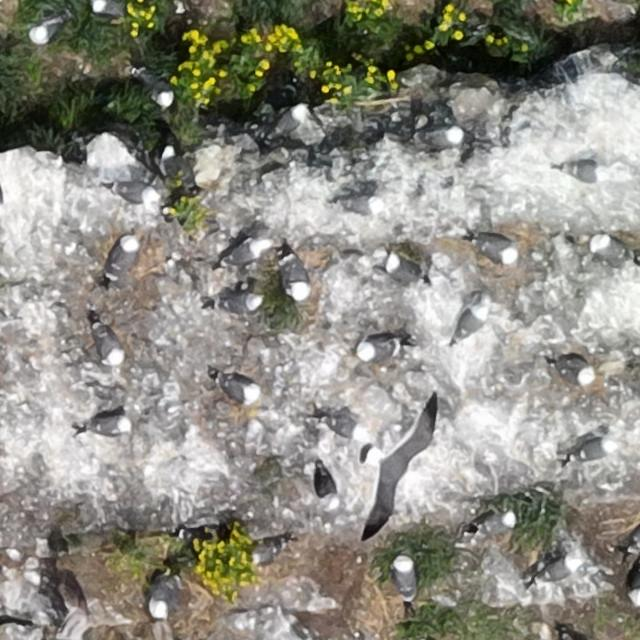F: (361, 407, 436, 538)
umineko: (91, 320, 130, 366), (278, 254, 314, 302), (588, 229, 636, 265), (224, 237, 274, 266), (386, 254, 428, 287), (216, 289, 266, 315), (138, 72, 173, 105), (110, 237, 140, 272), (339, 196, 390, 216), (322, 414, 364, 436), (222, 377, 257, 402), (459, 306, 487, 337), (559, 358, 593, 383), (152, 580, 176, 615), (110, 183, 154, 202), (476, 239, 512, 261), (396, 559, 416, 597), (32, 18, 63, 42), (359, 340, 395, 360), (422, 128, 462, 146), (482, 512, 517, 532), (275, 108, 303, 133), (566, 162, 604, 180), (575, 440, 608, 460), (88, 416, 126, 433), (540, 562, 572, 582), (314, 469, 333, 500), (252, 543, 280, 562), (160, 146, 177, 176), (92, 0, 120, 15), (630, 522, 639, 548)
